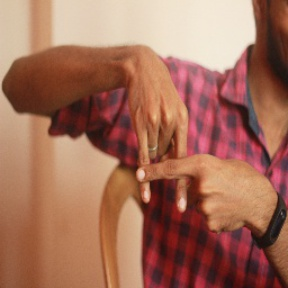H: (120, 118, 222, 217)
